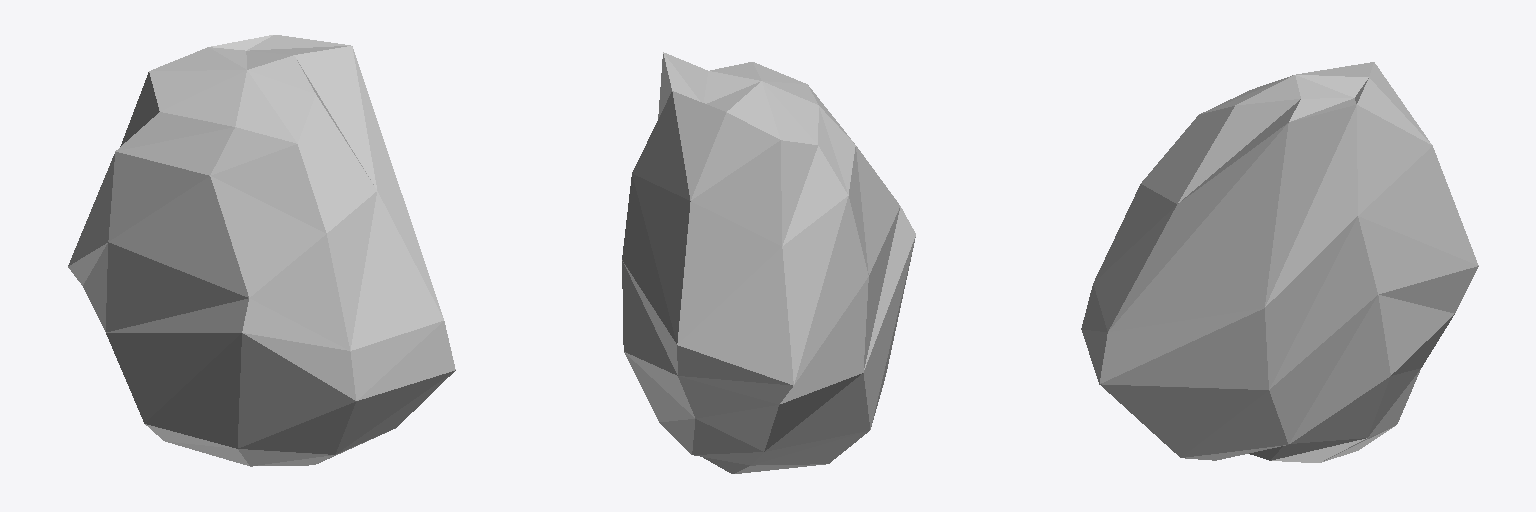
The model's file is Rock3.obj.
3 views of the same model, side by side, from view 1: azimuth 30°, elevation 25°; view 2: azimuth 150°, elevation 25°; view 3: azimuth 270°, elevation 25° (orthographic).
Parts seen in each view (by area): view 1: pSphere1; view 2: pSphere1; view 3: pSphere1.
Boxes of the visible parts, x1,y1,x2,y2 form: pSphere1: [68, 35, 455, 466]; pSphere1: [622, 52, 915, 473]; pSphere1: [1081, 62, 1478, 462].
Size of the model in its own units: 18.33 by 25.74 by 25.39.